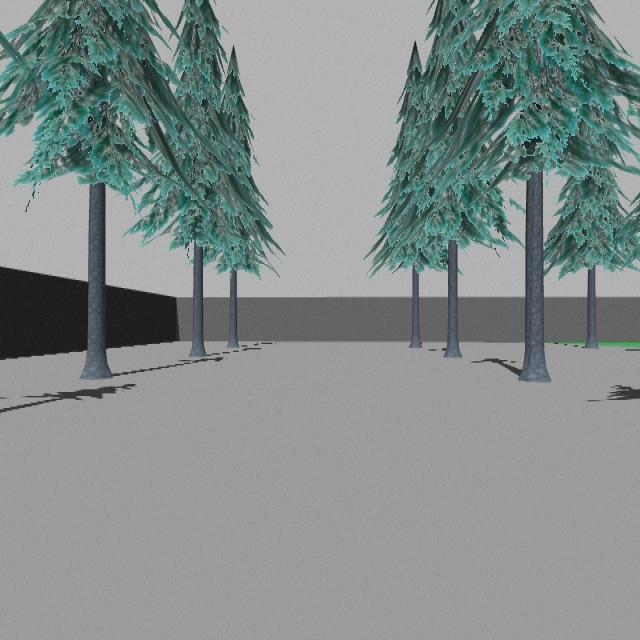tree: (427, 0, 640, 384), (6, 0, 197, 380)
